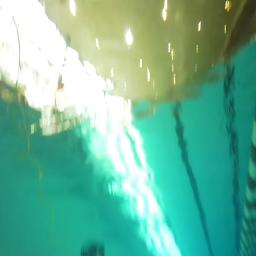Full: (80, 241, 105, 256)
